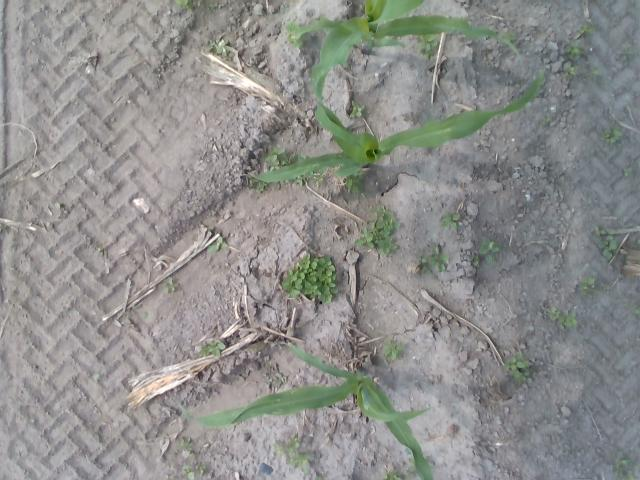Maize: (178, 340, 436, 480), (248, 72, 540, 185), (296, 0, 526, 100)
Weeds: (282, 254, 338, 302), (506, 354, 530, 382), (430, 245, 449, 270), (286, 452, 309, 472), (286, 23, 304, 46), (125, 309, 148, 325), (383, 340, 402, 359), (375, 220, 399, 235), (481, 240, 497, 262), (601, 236, 616, 258), (419, 34, 437, 52), (208, 340, 225, 357), (616, 450, 632, 468), (347, 176, 363, 194), (604, 130, 622, 146), (162, 278, 178, 295), (356, 233, 374, 248), (266, 147, 284, 162), (273, 442, 293, 454), (560, 310, 576, 325), (442, 214, 461, 226), (378, 237, 393, 252), (207, 237, 223, 250), (351, 102, 363, 118), (182, 465, 195, 479), (565, 43, 579, 56), (210, 41, 223, 55), (176, 0, 196, 9), (582, 279, 596, 291), (181, 437, 193, 450), (375, 206, 386, 220), (289, 436, 299, 449), (386, 472, 402, 480), (194, 349, 207, 357), (594, 226, 604, 236), (623, 48, 631, 60), (564, 68, 576, 76), (505, 33, 515, 42), (623, 168, 632, 178), (196, 465, 207, 473), (579, 24, 590, 32), (551, 308, 559, 319), (406, 466, 414, 476), (592, 70, 600, 78), (616, 470, 624, 478), (420, 259, 429, 266), (628, 470, 634, 479)
